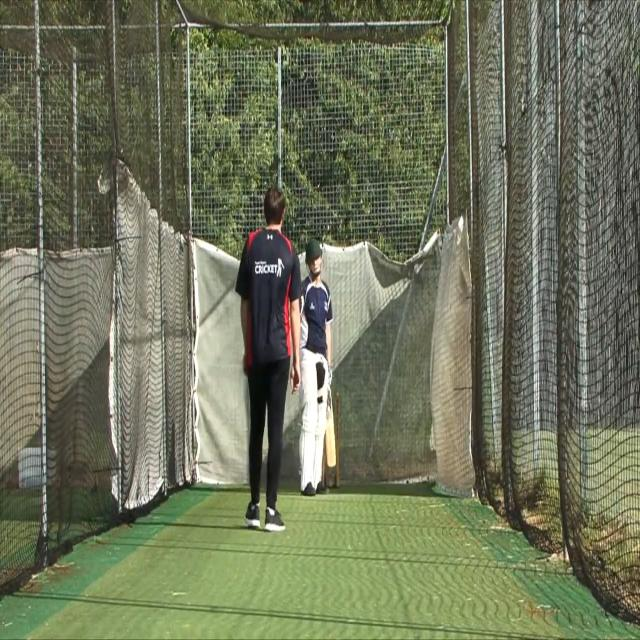batsman: (298, 236, 337, 498)
